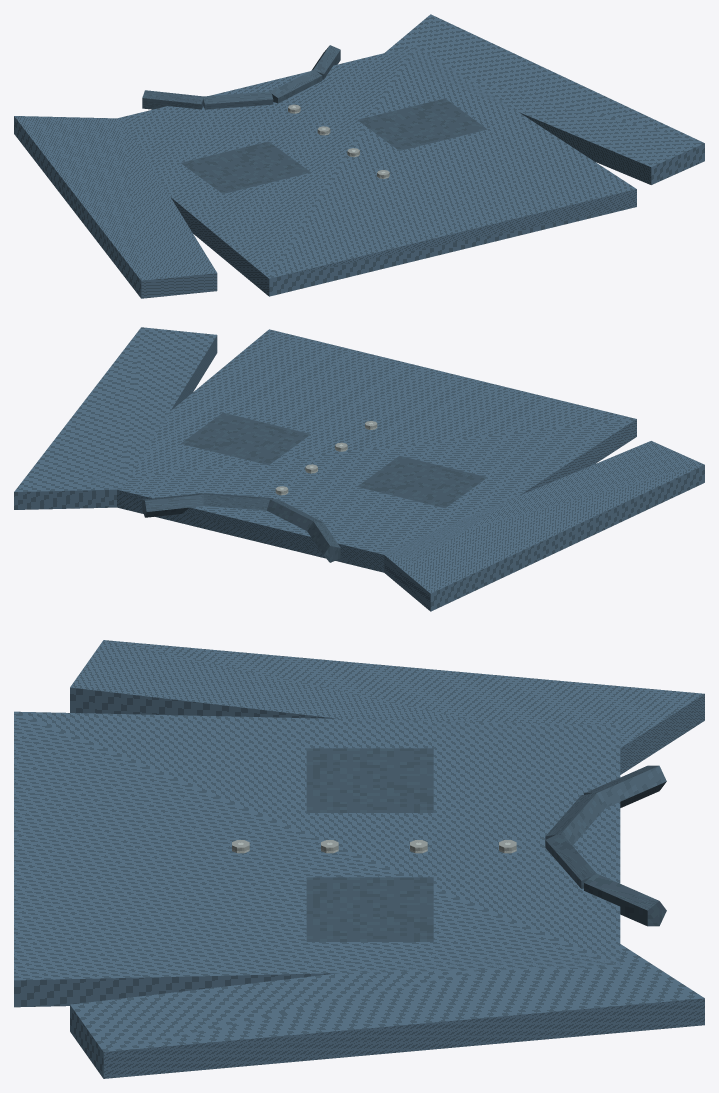
File: denim_shirt.glb
3 views of the same model, one above another, from view 1: azimuth 30°, elevation 25°; view 2: azimuth 150°, elevation 25°; view 3: azimuth 270°, elevation 25° (orthographic). The views are drawn at different scales.
Visible parts, largest first — view 1: block_shirt torso, block_sleeve or strap -1, block_sleeve or strap 1, block_patch pocket 1, block_patch pocket -1, block_bound collar 1, block_bound collar 0, block_bound collar 2, block_bound collar 3; view 2: block_shirt torso, block_sleeve or strap -1, block_sleeve or strap 1, block_patch pocket -1, block_patch pocket 1, block_bound collar 3, block_bound collar 2, block_bound collar 0, block_bound collar 1; view 3: block_shirt torso, block_sleeve or strap 1, block_sleeve or strap -1, block_patch pocket -1, block_patch pocket 1, block_bound collar 3, block_bound collar 0, block_bound collar 1, block_bound collar 2.
Boxes of the visible parts, left/top/right/bottom form: block_shirt torso: left=118, top=45, right=636, bottom=296; block_sleeve or strap -1: left=14, top=116, right=217, bottom=298; block_sleeve or strap 1: left=385, top=14, right=704, bottom=184; block_patch pocket 1: left=357, top=98, right=487, bottom=150; block_patch pocket -1: left=181, top=141, right=310, bottom=193; block_bound collar 1: left=203, top=91, right=273, bottom=109; block_bound collar 0: left=142, top=90, right=203, bottom=109; block_bound collar 2: left=270, top=69, right=322, bottom=103; block_bound collar 3: left=312, top=45, right=340, bottom=79; block_shirt torso: left=86, top=329, right=636, bottom=572; block_sleeve or strap -1: left=382, top=441, right=704, bottom=611; block_sleeve or strap 1: left=14, top=327, right=217, bottom=509; block_patch pocket -1: left=357, top=455, right=487, bottom=508; block_patch pocket 1: left=181, top=412, right=310, bottom=465; block_bound collar 3: left=142, top=493, right=203, bottom=517; block_bound collar 2: left=203, top=493, right=273, bottom=510; block_bound collar 0: left=307, top=521, right=340, bottom=562; block_bound collar 1: left=266, top=499, right=322, bottom=530; block_shirt torso: left=14, top=711, right=620, bottom=1007; block_sleeve or strap 1: left=70, top=944, right=704, bottom=1078; block_sleeve or strap -1: left=70, top=640, right=704, bottom=774; block_patch pocket -1: left=306, top=748, right=433, bottom=812; block_patch pocket 1: left=306, top=877, right=433, bottom=941; block_bound collar 3: left=584, top=873, right=666, bottom=926; block_bound collar 0: left=584, top=765, right=666, bottom=807; block_bound collar 1: left=545, top=792, right=605, bottom=845; block_bound collar 2: left=545, top=832, right=596, bottom=888.
Size of the model in its own units: 0.46 by 0.0207 by 0.326.
1 material, 1 textured.
